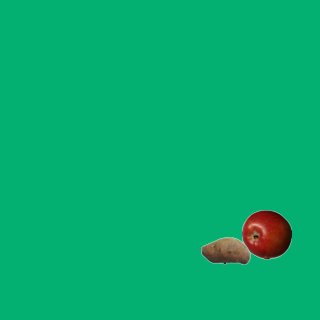Apple Braeburn: (241, 209, 291, 259)
Potato Sweet: (200, 225, 250, 275)
